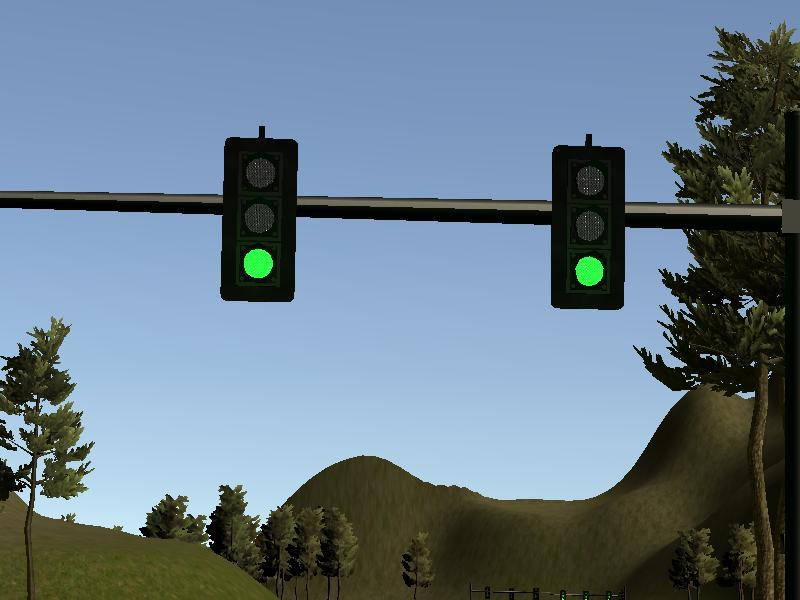Green: (223, 137, 296, 302), (551, 145, 624, 310)
